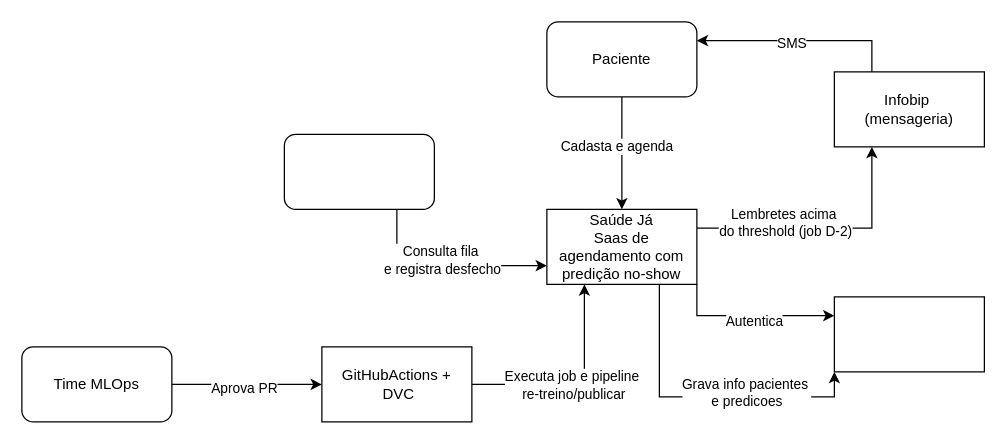
This 1006x444 diagram has some shape labels left out. The centre of each missing label's shape, as x and y in pixels:
"Funcionário da clínica" belongs at (x=358, y=171).
"Supabase (postgres)" belongs at (x=908, y=334).
